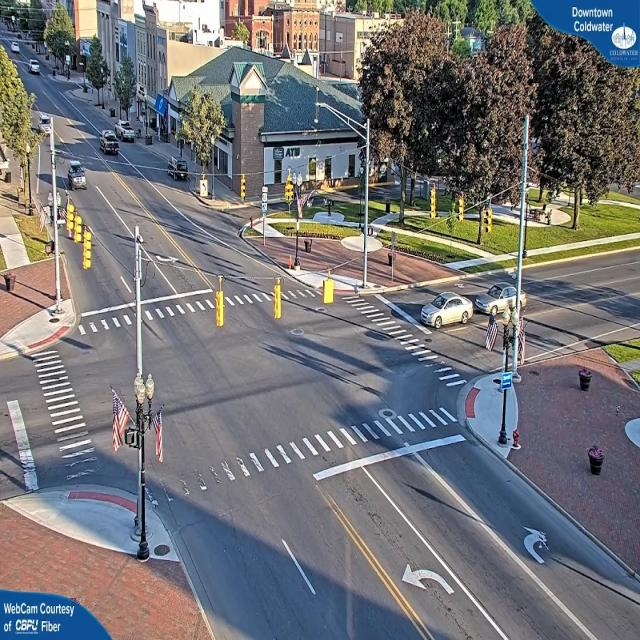car: (416, 289, 476, 331), (474, 285, 525, 314), (67, 161, 89, 192), (586, 442, 606, 475), (165, 158, 190, 181), (100, 131, 118, 154)
